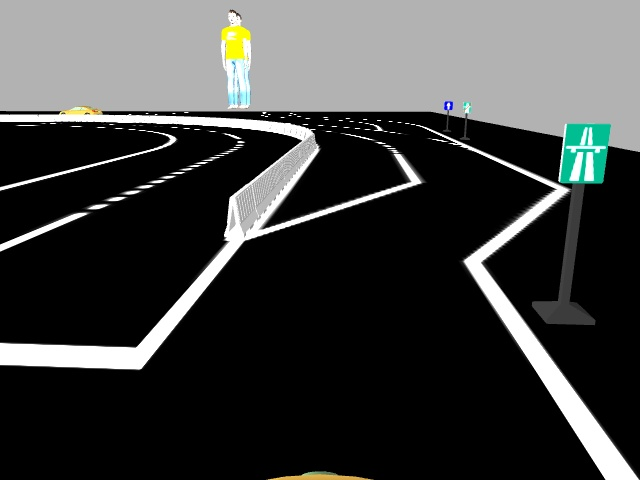HighwayEntrance: (560, 121, 607, 182)
